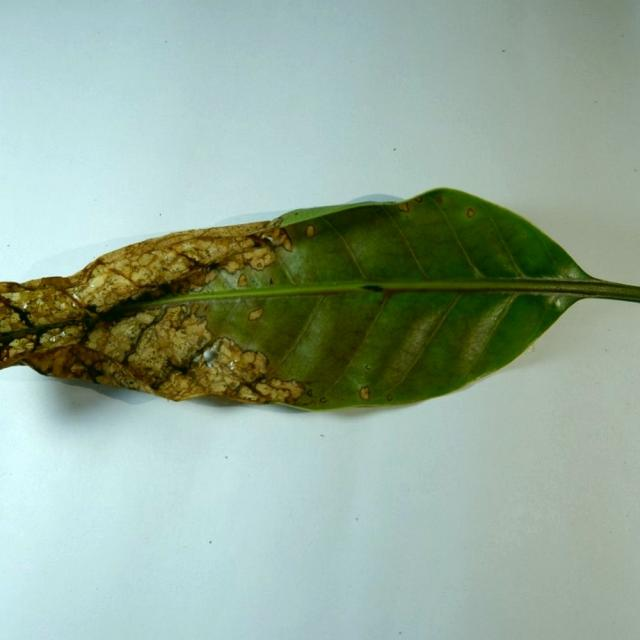Anthracnose: (379, 203, 478, 278), (284, 297, 369, 379), (442, 296, 518, 385), (298, 210, 376, 285), (498, 213, 568, 276), (77, 261, 145, 306), (233, 293, 280, 334), (168, 325, 208, 366), (35, 324, 84, 352), (236, 244, 277, 270), (176, 266, 217, 292), (3, 336, 36, 362), (270, 379, 306, 401), (176, 240, 214, 258), (32, 276, 76, 290), (234, 384, 260, 401), (137, 253, 161, 269), (183, 313, 205, 330), (121, 321, 141, 339), (4, 310, 24, 327), (224, 258, 243, 273), (3, 292, 23, 305), (70, 364, 85, 376), (54, 299, 68, 310), (35, 299, 46, 308)
Mango: (0, 189, 639, 415)
